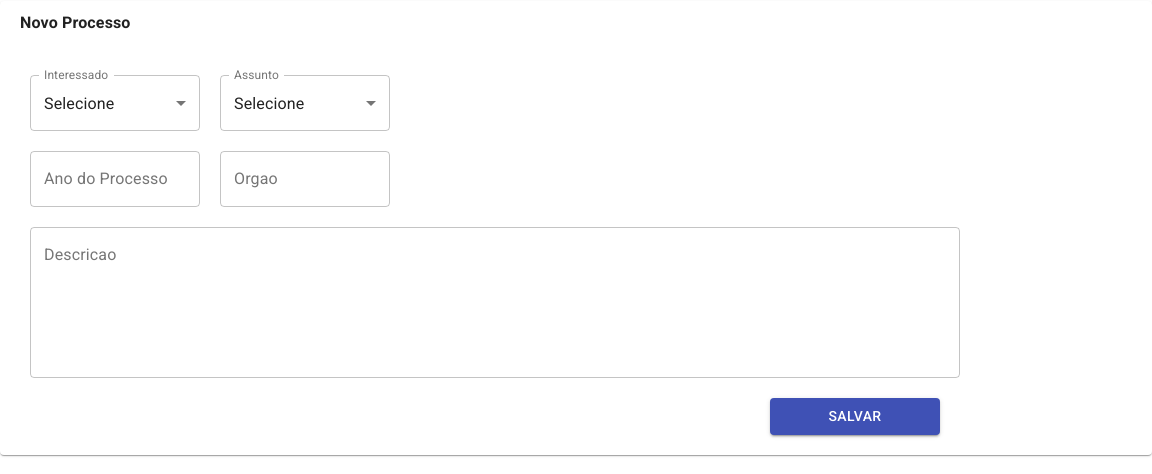
Test: FormProcesso Component › Deve permitir escolher um assunto
Click the button named "Assunto" at (269, 103), box [234,94,304,112]
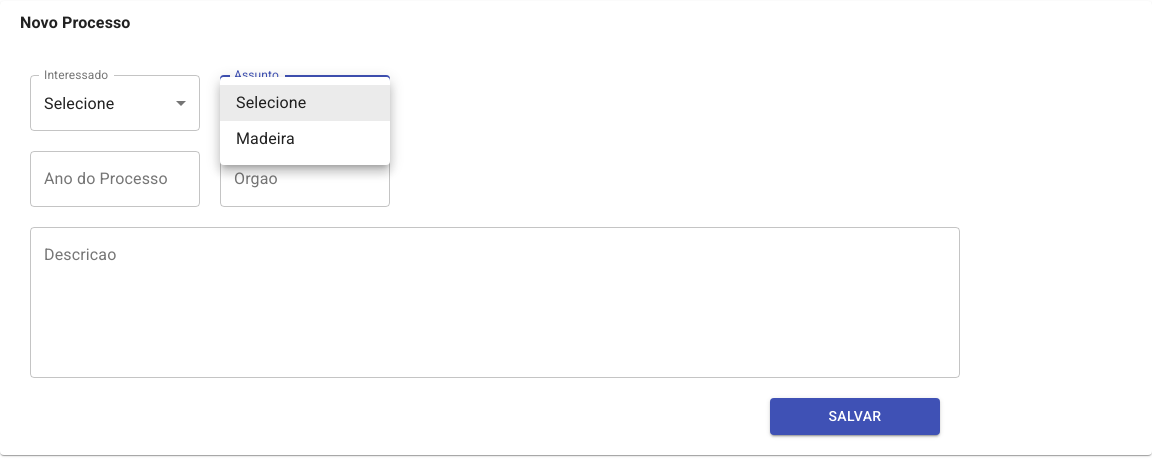
Now the option "Madeira" is shown, box [236,129,295,148]
